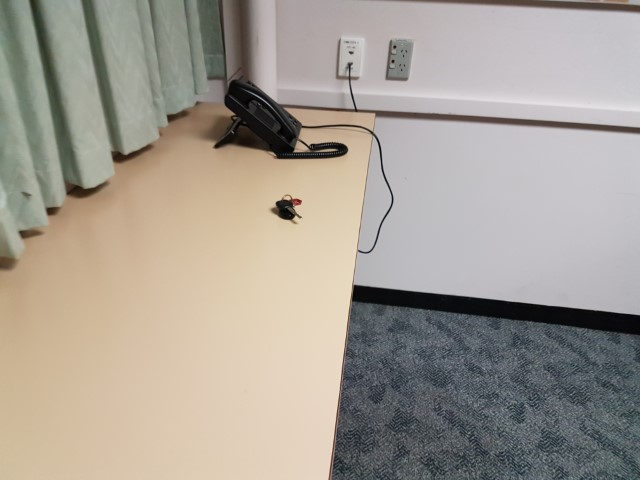key: (276, 199, 303, 220)
